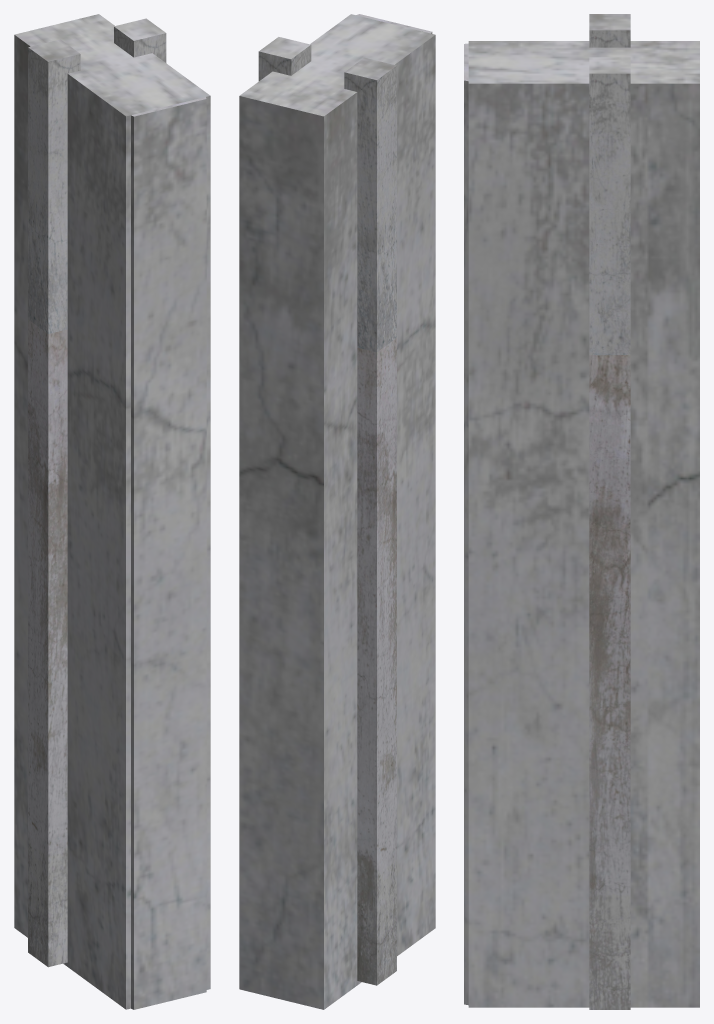
File: ms_tri_b_2_pile1a.fbx
3 renders of one model, left to right at view 1: azimuth 30°, elevation 25°; view 2: azimuth 150°, elevation 25°; view 3: azimuth 270°, elevation 25°, orthographic. The views are drawn at different scales.
Visible parts, largest first — view 1: ms_tri_b_2_pile1a; view 2: ms_tri_b_2_pile1a; view 3: ms_tri_b_2_pile1a.
Boxes of the visible parts, x1,y1,x2,y2 form: ms_tri_b_2_pile1a: (14, 14, 210, 1009); ms_tri_b_2_pile1a: (239, 14, 435, 1009); ms_tri_b_2_pile1a: (464, 14, 699, 1009).
Bounding box in the file's own units: 46.02 × 339 × 76.86.
